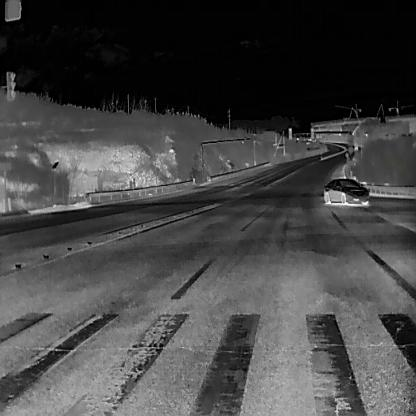car: (322, 177, 368, 205)
truck: (353, 141, 358, 150), (320, 137, 325, 143)
